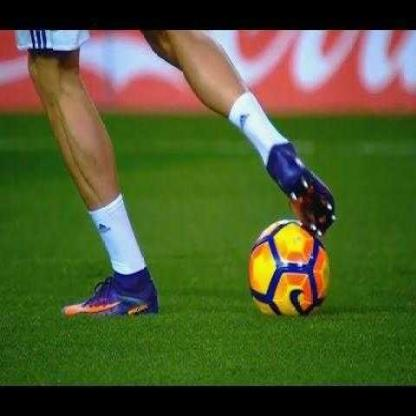ball: (249, 219, 331, 318)
